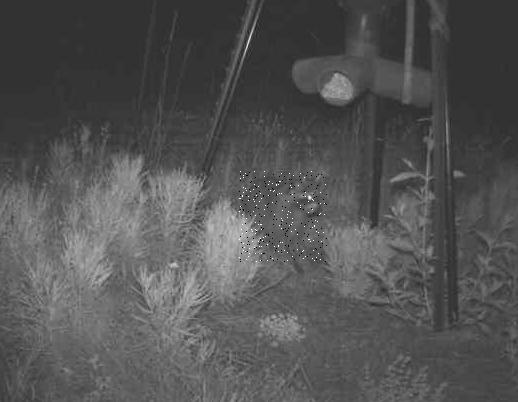Raccoon: (240, 172, 328, 263)
